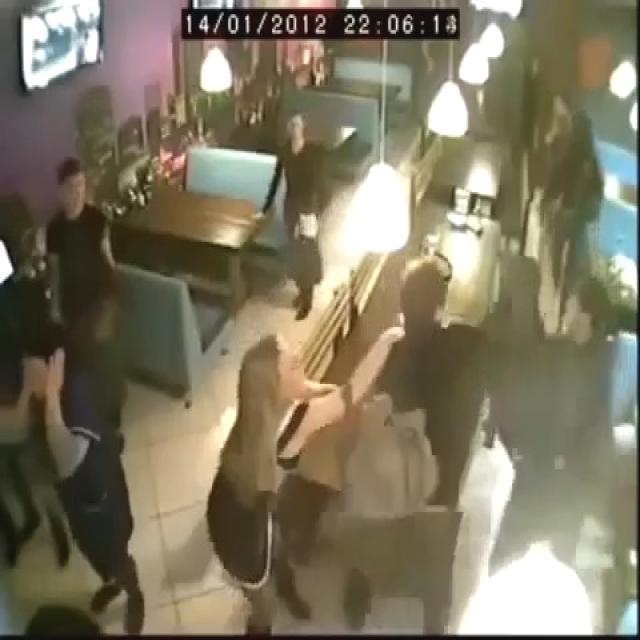fight: (286, 161, 564, 486)
